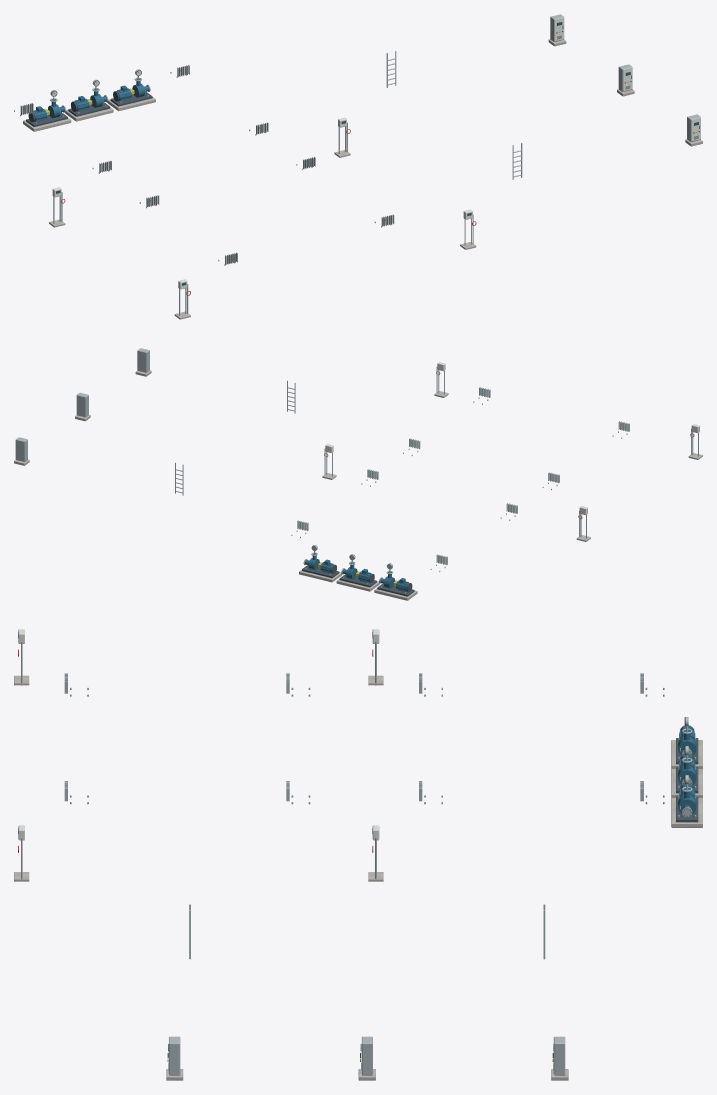
File: oxidation-details.glb
3 views of the same model, one above another, from view 1: azimuth 30°, elevation 25°; view 2: azimuth 150°, elevation 25°; view 3: azimuth 270°, elevation 25° (orthographic). The views are drawn at different scales.
Visible parts, largest first — view 1: OX-BLOWER-SERVICE-3, OX-BLOWER-SERVICE-1, OX-BLOWER-SERVICE-2; view 2: OX-BLOWER-SERVICE-2, OX-BLOWER-SERVICE-1, OX-BLOWER-SERVICE-3; view 3: OX-BLOWER-SERVICE-3, OX-BLOWER-SERVICE-2, OX-BLOWER-SERVICE-1.
Boxes of the visible parts, x1,y1,x2,y2 form: OX-BLOWER-SERVICE-3: (107,77,155,111); OX-BLOWER-SERVICE-1: (23,98,71,131); OX-BLOWER-SERVICE-2: (65,88,113,121); OX-BLOWER-SERVICE-2: (336,561,379,591); OX-BLOWER-SERVICE-1: (374,571,417,600); OX-BLOWER-SERVICE-3: (299,552,342,582); OX-BLOWER-SERVICE-3: (671,783,702,827); OX-BLOWER-SERVICE-2: (671,754,702,797); OX-BLOWER-SERVICE-1: (671,725,702,768).
Size of the model in its own units: 27.29 by 1.82 by 20.04.
Materials: 8 (1 with a texture image).
